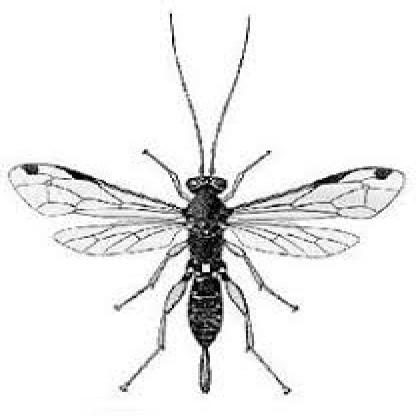sawfly: (8, 9, 405, 394)
